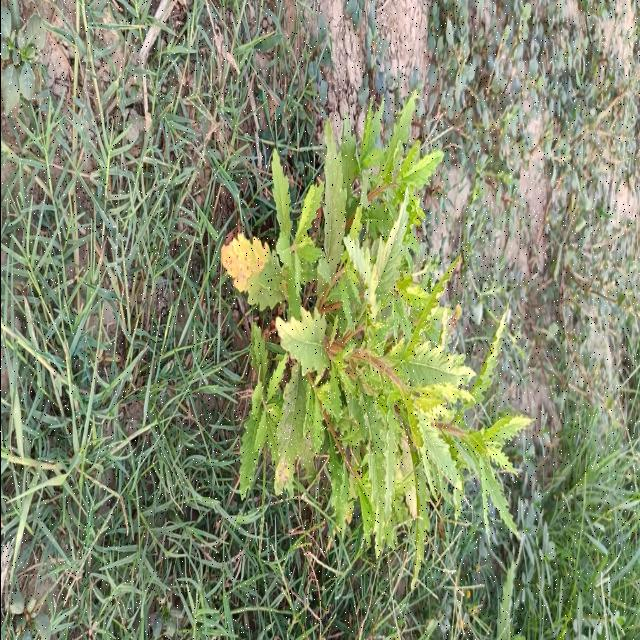plant: (221, 94, 528, 573)
